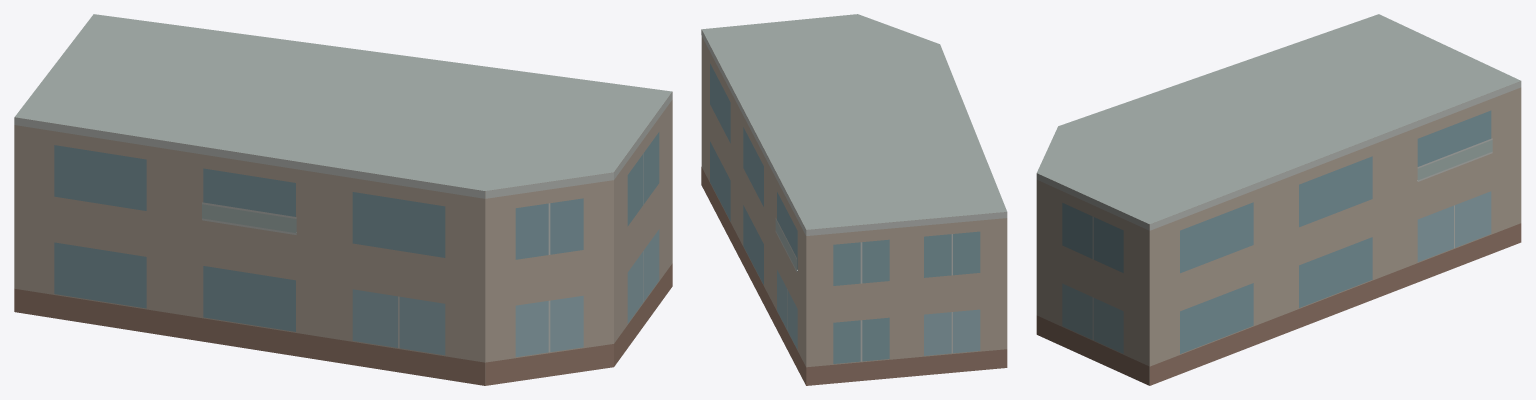
The model's file is survey-upis-32773258.glb.
3 renders of one model, left to right at view 1: azimuth 30°, elevation 25°; view 2: azimuth 150°, elevation 25°; view 3: azimuth 270°, elevation 25°, orthographic. The views are drawn at different scales.
Parts seen in each view (by area): view 1: survey-upis-32773258.tmp; view 2: survey-upis-32773258.tmp; view 3: survey-upis-32773258.tmp.
Boxes of the visible parts, x1,y1,x2,y2 form: survey-upis-32773258.tmp: (14,14,672,385); survey-upis-32773258.tmp: (701,14,1007,385); survey-upis-32773258.tmp: (1036,14,1521,385).
Bounding box in the file's own units: 17.05 × 6.1 × 16.6.
